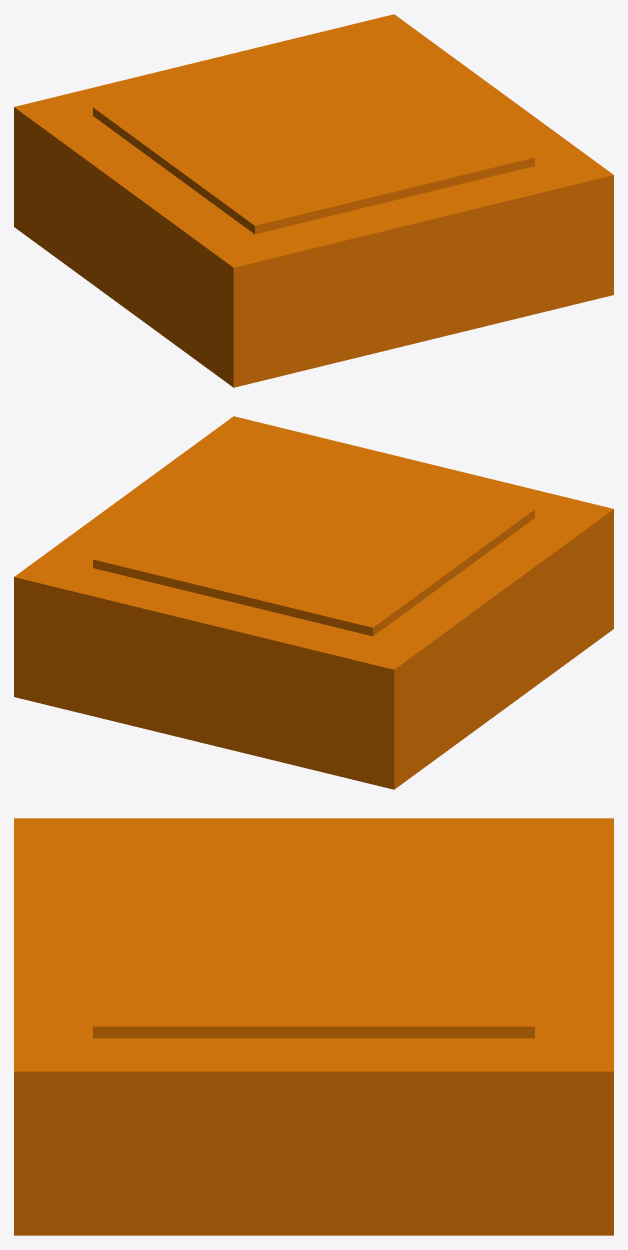
File: Floor_Button_02.fbx
3 renders of one model, top to bottom at view 1: azimuth 30°, elevation 25°; view 2: azimuth 150°, elevation 25°; view 3: azimuth 270°, elevation 25°, orthographic. The views are drawn at different scales.
Visible parts, largest first — view 1: Cube; view 2: Cube; view 3: Cube.
Part boxes in pixels (bbox=[...]): Cube: bbox=[14, 14, 613, 387]; Cube: bbox=[14, 416, 613, 789]; Cube: bbox=[14, 818, 613, 1235].
Size of the model in its own units: 66.36 by 21.44 by 66.42.
